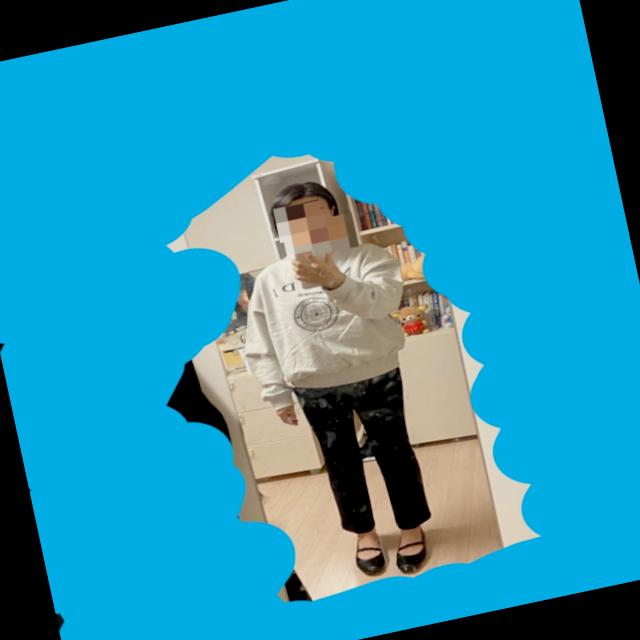mtm: (221, 233, 423, 418)
slacks: (294, 366, 432, 546)
